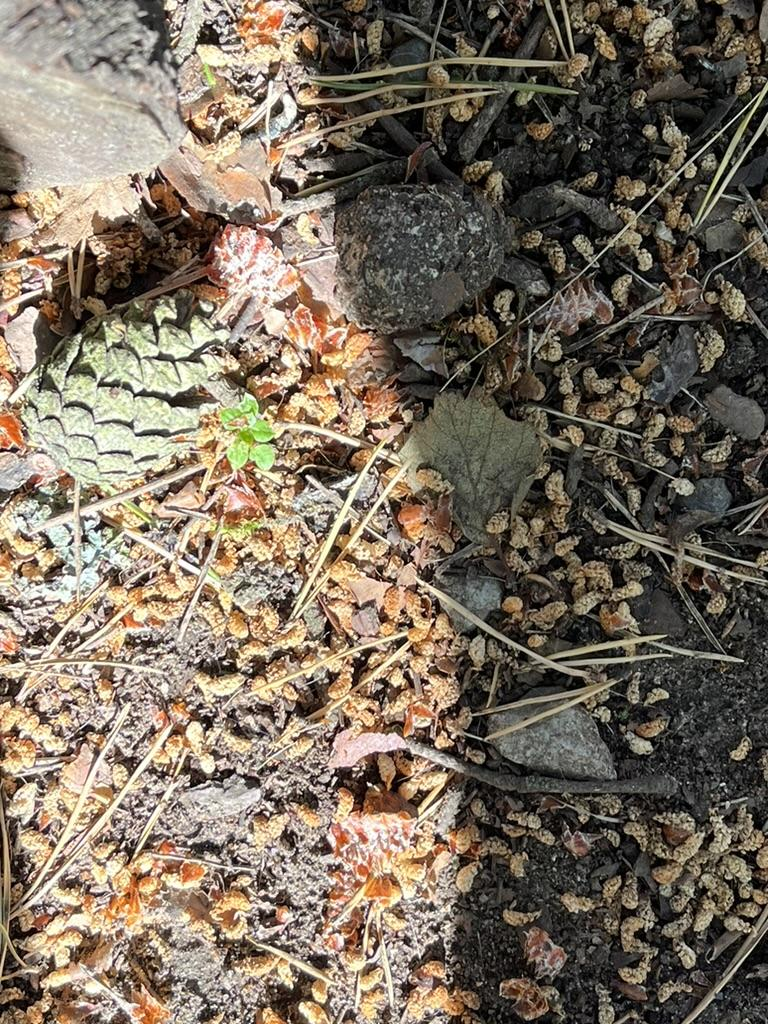pine: (18, 268, 241, 513)
